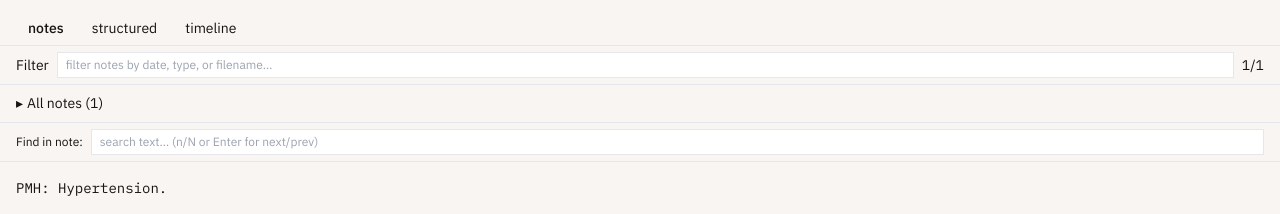
Scenario: NoteViewer — Structured source tab › shows the Structured tab and renders rows when the patient has OMOP data
Expected: the text "PMH: Hypertension." is shown, [16,179,167,197]
Click the button "structured". click: click(124, 28)
box: [80,12,169,45]
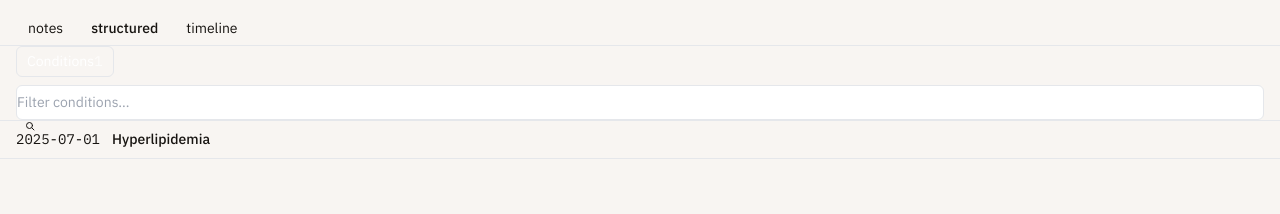
Result: the text "Hyperlipidemia" is shown at [112,130,210,148]
